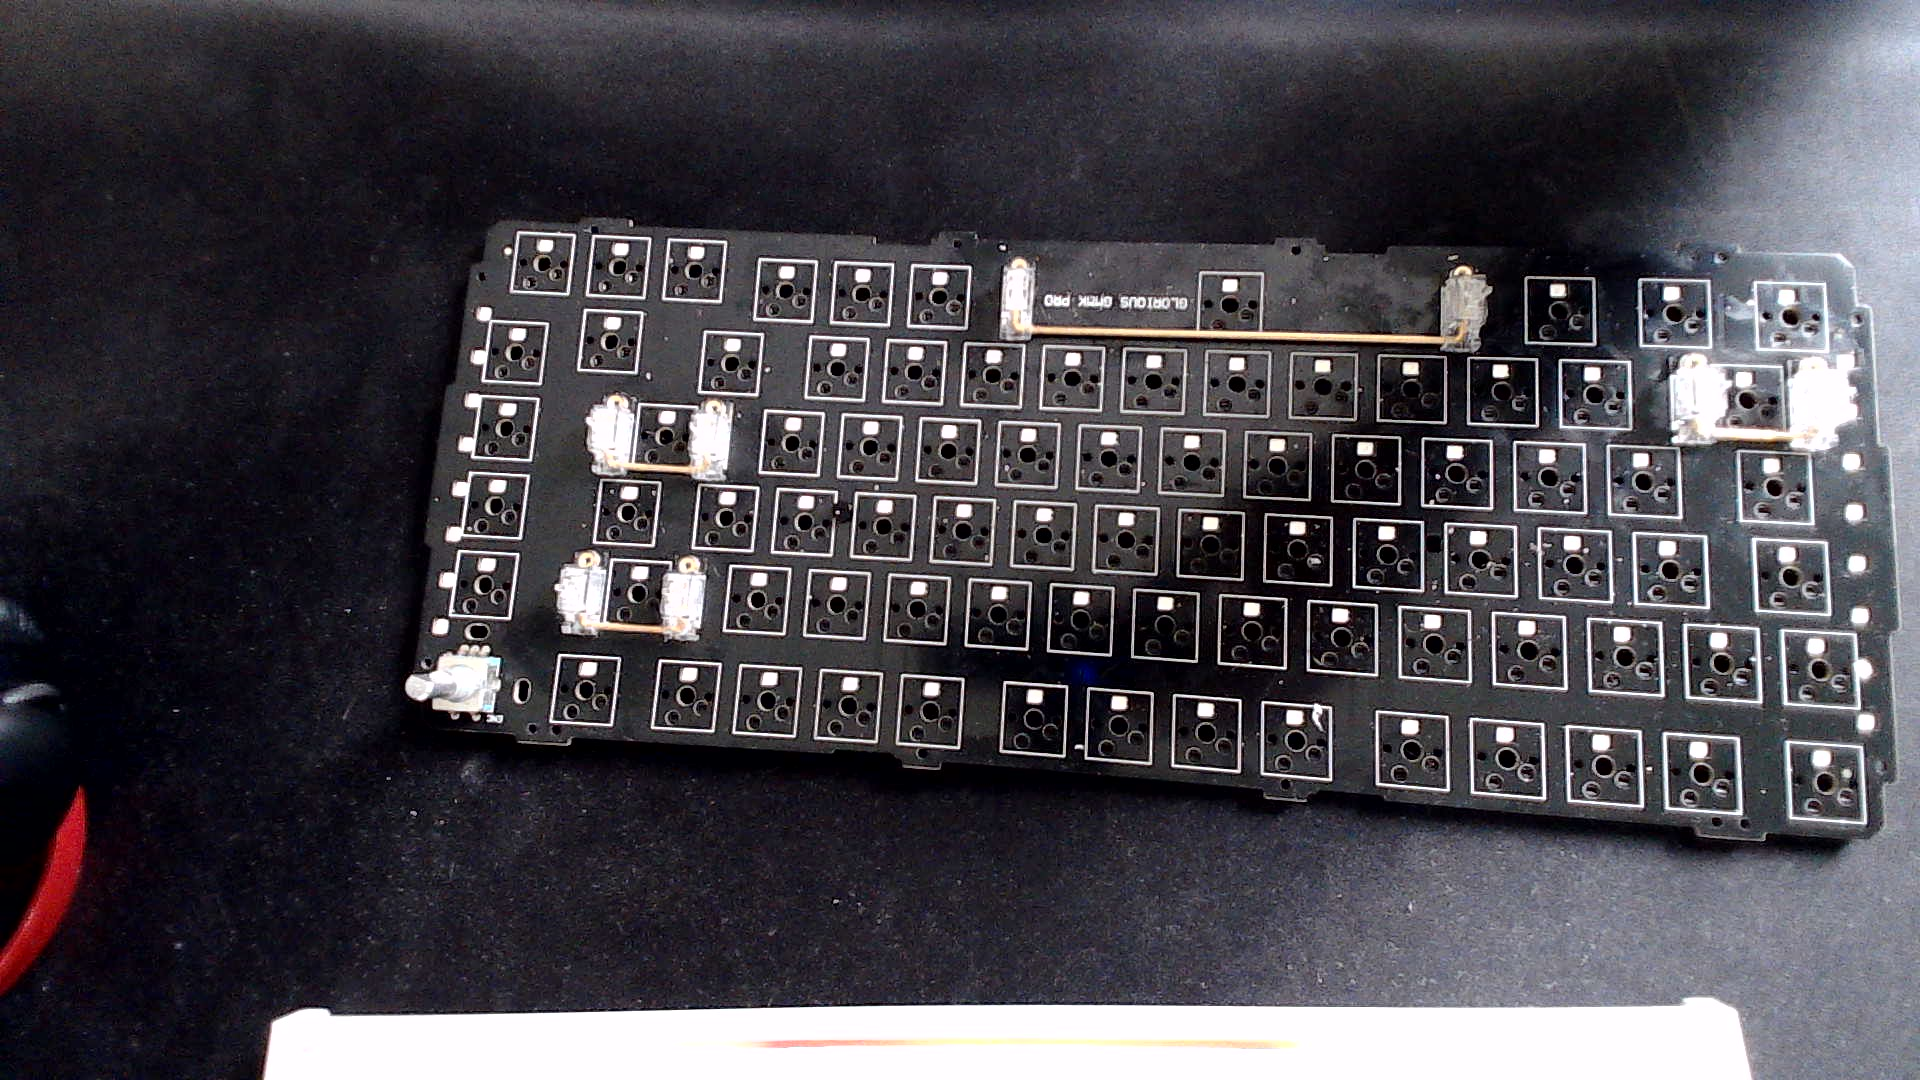pcb: (382, 182, 1905, 884)
